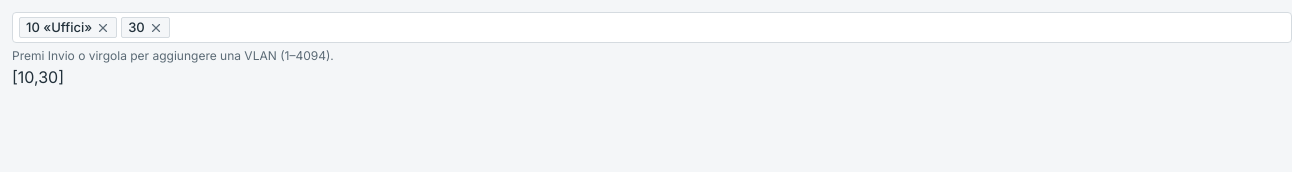
Test case: the list of VLANs of a device › shows each VLAN with its name on its tag; what is kept is still the numbers
Type "20" into the field named "VLAN" at (729, 28), box [174,15,1285,40]
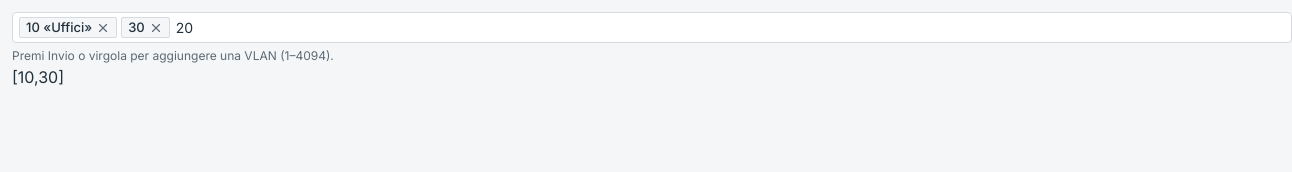
Press Enter in the field named "VLAN", box [174,15,1285,40]
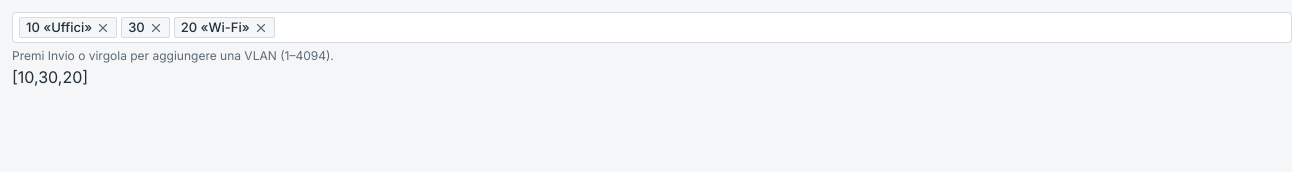
Now the text with test id "kept" reads "[10,30,20]", box [12,67,88,87]
Click the button named "Togli la VLAN 10" at (103, 28), box [96,20,110,34]
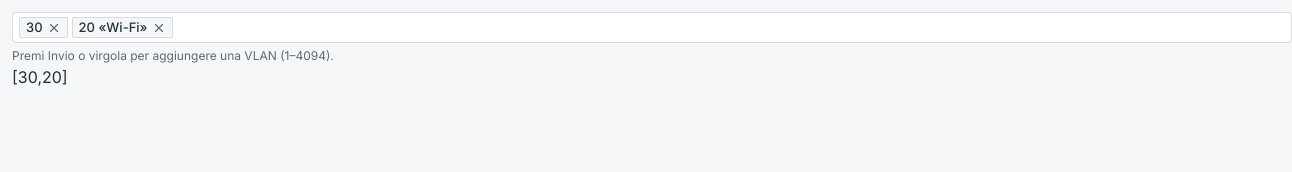
Now the text with test id "kept" reads "[30,20]", box [12,67,68,87]
